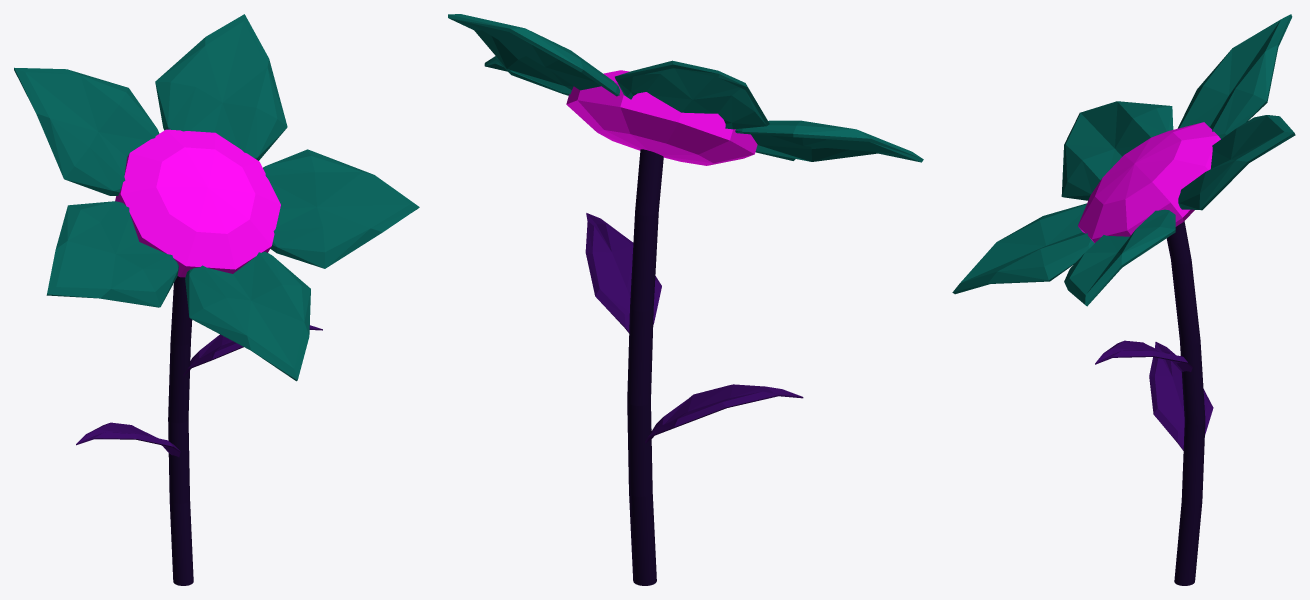
The model's file is Flower_2.fbx.
The picture shows the model from 3 angles, left to right: view 1: azimuth 30°, elevation 25°; view 2: azimuth 150°, elevation 25°; view 3: azimuth 270°, elevation 25°; orthographic projection. The views are drawn at different scales.
Parts seen in each view (by area): view 1: Flower_2; view 2: Flower_2; view 3: Flower_2.
Part boxes in pixels (x1,y1,x2,y2): Flower_2: [14, 14, 419, 585]; Flower_2: [448, 14, 923, 585]; Flower_2: [952, 14, 1295, 585].
Bounding box in the file's own units: 51.44 × 65.93 × 40.22.
